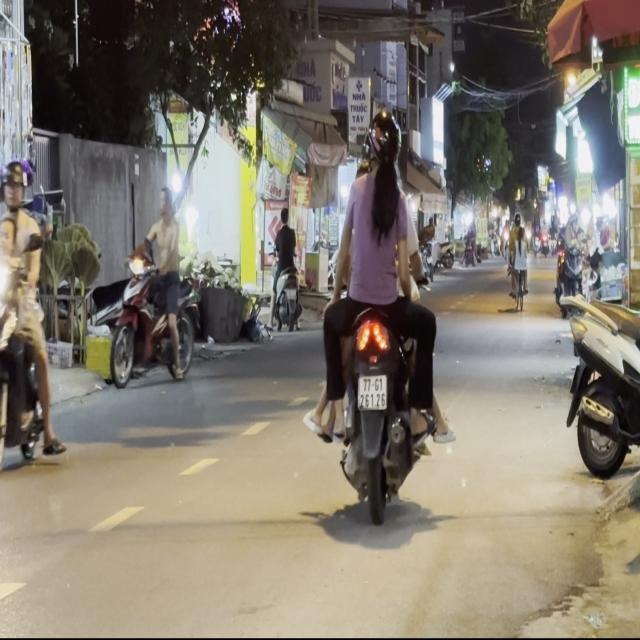helmet: (365, 107, 401, 171), (1, 156, 27, 212)
licenseplate: (310, 102, 446, 522), (558, 149, 639, 483), (0, 152, 58, 474), (107, 182, 197, 389)
motorcyclist: (157, 184, 174, 220)
nohelmet: (358, 374, 386, 408)
